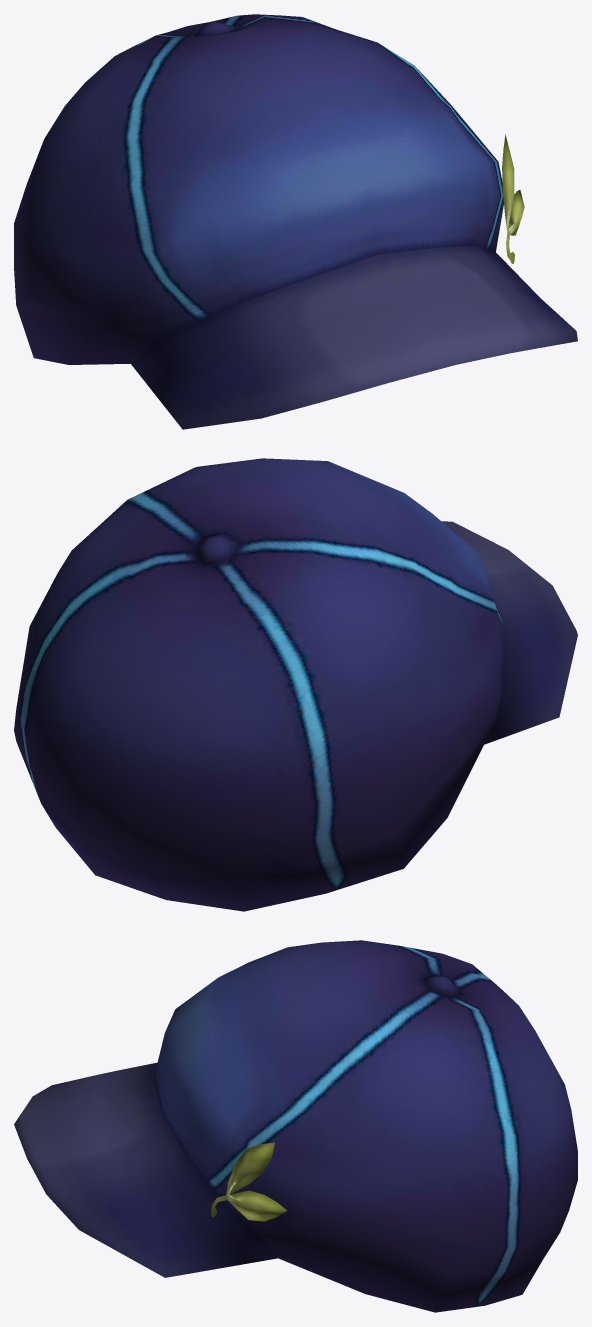
Rendered from helm0093.fbx.
3 views of the same model, one above another, from view 1: azimuth 30°, elevation 25°; view 2: azimuth 150°, elevation 25°; view 3: azimuth 270°, elevation 25° (orthographic). The views are drawn at different scales.
Visible parts, largest first — view 1: helm0093_m; view 2: helm0093_m; view 3: helm0093_m.
Part boxes in pixels (x1,y1,x2,y2): helm0093_m: (14,14,577,429); helm0093_m: (14,458,577,911); helm0093_m: (14,940,577,1312).
Bounding box in the file's own units: 0.4198 × 0.3165 × 0.5286.
